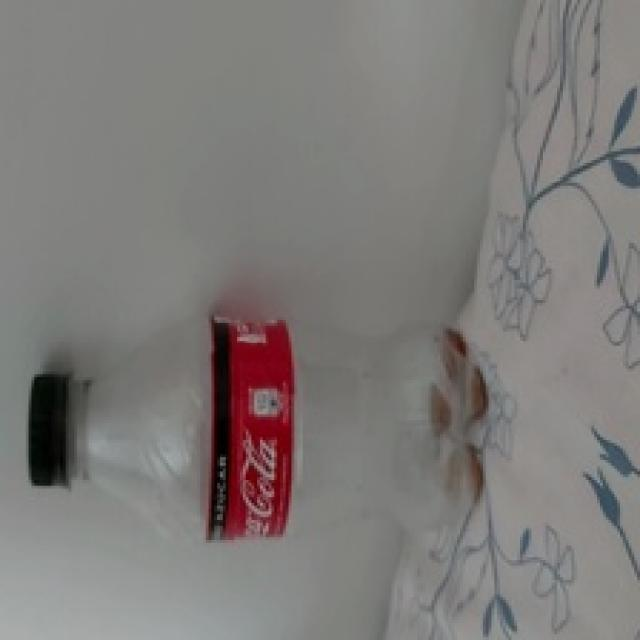Plastic: (28, 313, 494, 553)
